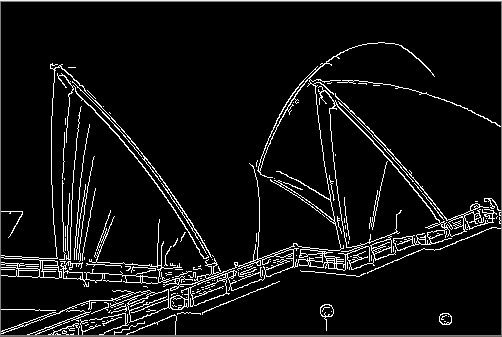opera house: (29, 42, 501, 289)
